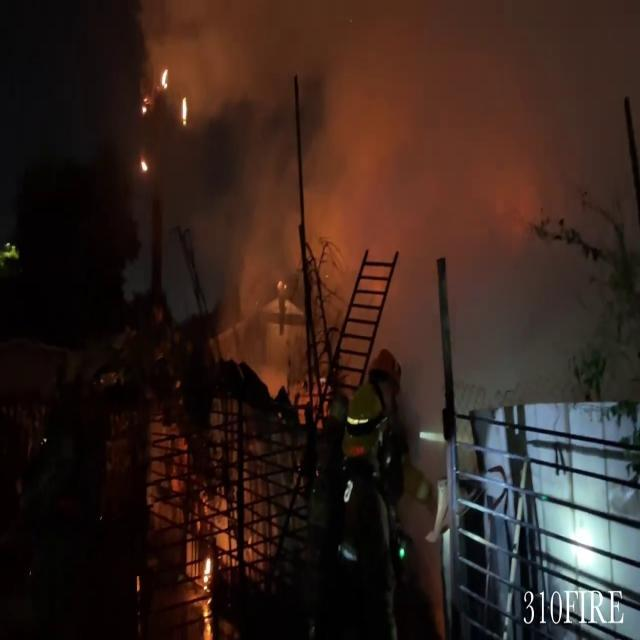Smoke: (136, 0, 632, 369)
